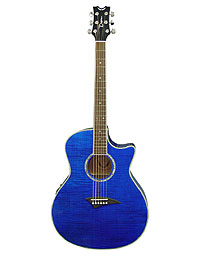guitar: (50, 5, 149, 250)
